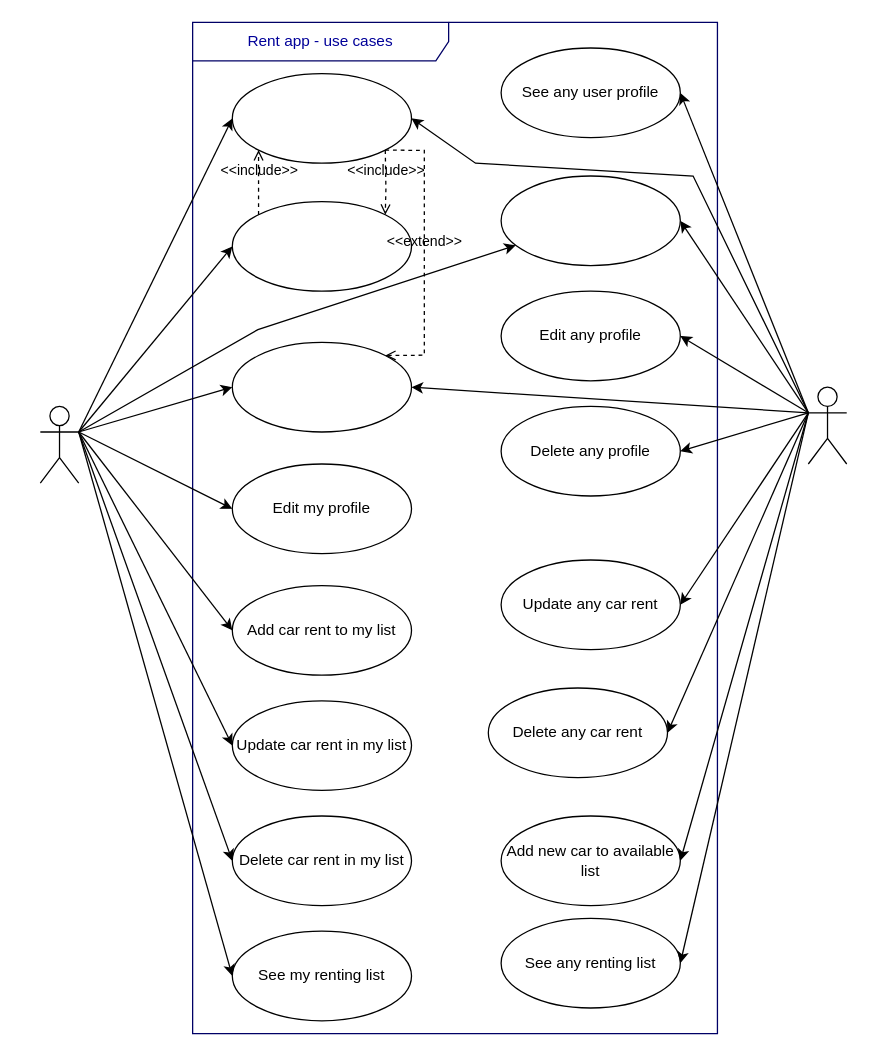
The diagram is 890 pixels wide and 1056 high, and some of its shapes have lost their labels. The shapes that lost their labels are listed below. From the top down, each one's centre as x and y in pixels, then its label:
At pixel 321 117: "Login".
At pixel 590 220: "See detailed car data".
At pixel 321 245: "Signup".
At pixel 321 386: "See the available cars for renting".
At pixel 59 444: "Client User".
At pixel 827 425: "Admin User".
